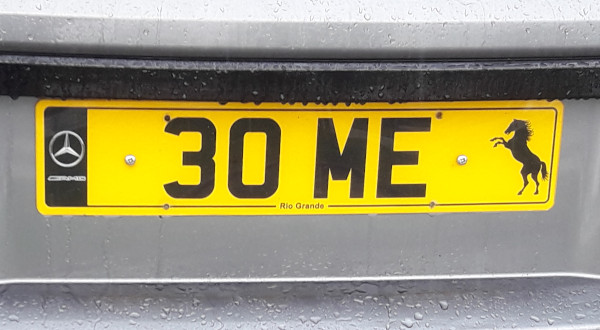license_plate: (36, 99, 564, 215)
